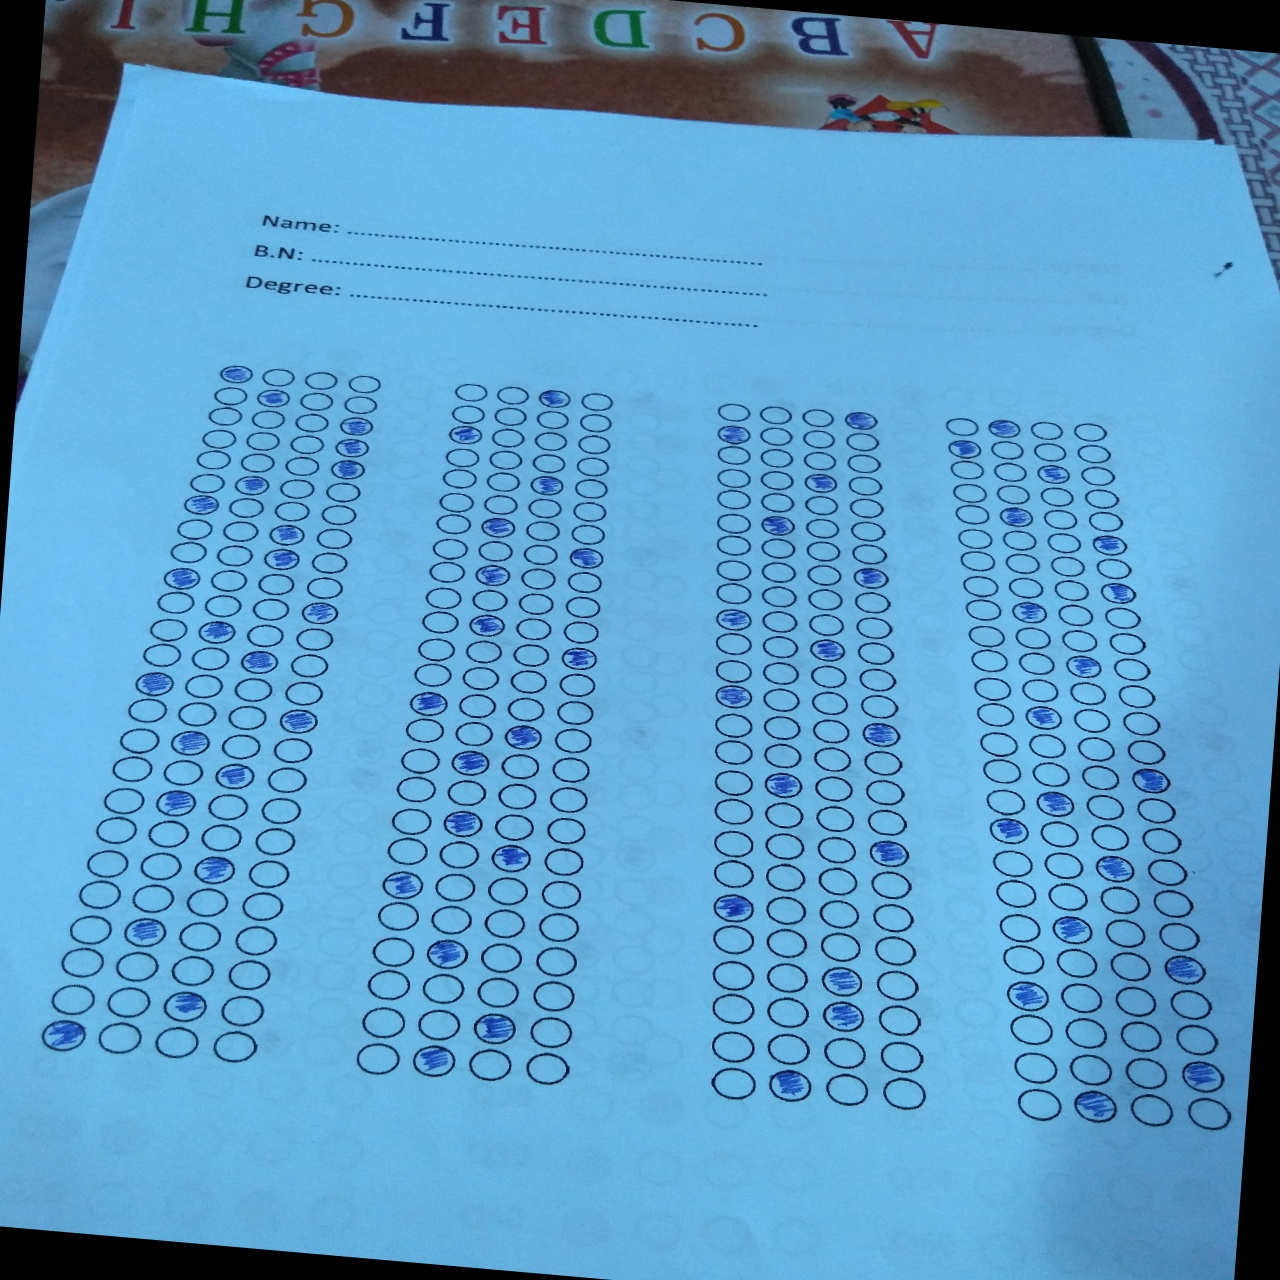not-c: (1185, 1094, 1234, 1133), (1124, 1053, 1173, 1092), (762, 958, 811, 998), (97, 1019, 145, 1058), (353, 1040, 401, 1080), (532, 944, 580, 983), (762, 924, 810, 964), (529, 978, 578, 1016), (709, 1065, 758, 1104), (1014, 1085, 1063, 1124), (1067, 1051, 1116, 1090), (1167, 986, 1217, 1024), (709, 956, 758, 995), (872, 932, 921, 971), (104, 983, 152, 1022), (49, 981, 97, 1020), (369, 932, 417, 971), (467, 1047, 515, 1085), (524, 1051, 572, 1090), (527, 1013, 576, 1051), (823, 1071, 871, 1110), (881, 1075, 930, 1114), (879, 1039, 927, 1077), (1007, 1010, 1055, 1049), (1062, 1013, 1110, 1051), (1118, 1017, 1166, 1056), (1175, 1021, 1223, 1060), (1114, 983, 1162, 1022), (1058, 979, 1107, 1017), (999, 941, 1047, 980), (873, 967, 921, 1006), (822, 1034, 870, 1073), (710, 1028, 758, 1067), (763, 993, 811, 1032), (876, 1002, 925, 1040), (1128, 1092, 1177, 1130), (154, 1023, 200, 1062), (366, 966, 413, 1005), (1012, 1049, 1058, 1088), (359, 1005, 407, 1042), (764, 1030, 812, 1068), (708, 989, 756, 1027), (710, 921, 758, 959), (817, 928, 865, 966), (870, 899, 918, 937), (416, 1006, 463, 1043), (815, 896, 863, 932), (709, 856, 757, 892), (761, 828, 809, 864), (128, 879, 175, 915), (177, 918, 224, 954), (60, 945, 107, 981), (219, 993, 266, 1029), (211, 1028, 258, 1064), (761, 893, 809, 928), (710, 826, 758, 862), (1101, 915, 1149, 951), (1137, 823, 1185, 858), (240, 888, 286, 925), (476, 974, 522, 1010), (535, 908, 581, 944), (246, 857, 293, 892), (77, 877, 124, 912), (182, 885, 229, 920), (168, 952, 215, 987), (420, 971, 467, 1006), (992, 878, 1039, 913), (998, 911, 1044, 946), (1148, 886, 1194, 921), (1053, 946, 1099, 981), (1039, 847, 1085, 883), (496, 749, 542, 784), (138, 847, 184, 883), (234, 922, 280, 958), (68, 911, 114, 946), (226, 956, 272, 992), (763, 860, 809, 896), (1157, 920, 1203, 955), (1098, 881, 1144, 917), (84, 846, 131, 880), (113, 949, 159, 983), (815, 864, 862, 898), (869, 869, 915, 903), (1107, 949, 1153, 983), (1144, 855, 1191, 888), (540, 844, 585, 879), (375, 898, 420, 933), (479, 940, 524, 975), (493, 779, 539, 813), (482, 905, 527, 939), (197, 821, 243, 855), (1046, 880, 1092, 913), (990, 846, 1037, 879), (1087, 821, 1133, 853), (437, 837, 482, 871), (491, 810, 536, 844), (544, 813, 588, 847), (538, 878, 583, 912), (433, 870, 477, 904), (430, 903, 475, 937), (549, 754, 594, 787), (550, 724, 595, 757), (264, 764, 309, 797), (258, 795, 304, 828), (101, 785, 147, 818), (252, 825, 298, 858), (815, 803, 860, 836), (761, 799, 806, 832), (712, 795, 757, 828), (1082, 790, 1128, 823), (445, 776, 490, 809), (547, 784, 592, 817), (486, 874, 531, 907), (207, 790, 252, 823), (95, 812, 139, 845), (865, 805, 910, 838), (173, 699, 219, 730), (1132, 794, 1178, 825), (452, 717, 497, 749), (394, 774, 438, 805), (386, 835, 430, 866), (270, 734, 314, 765), (225, 702, 270, 734), (813, 835, 858, 866), (712, 768, 756, 799), (712, 712, 756, 743), (455, 690, 501, 721), (712, 655, 757, 686), (110, 753, 154, 784), (218, 730, 263, 761), (183, 672, 227, 702), (116, 726, 161, 756), (145, 818, 190, 849), (1039, 818, 1083, 849), (712, 737, 756, 768), (983, 787, 1028, 817), (282, 678, 325, 709), (125, 694, 168, 726), (559, 618, 602, 648), (403, 715, 447, 745), (390, 806, 434, 837), (858, 692, 901, 722), (1074, 734, 1117, 764), (971, 673, 1014, 703), (159, 757, 204, 787), (399, 744, 441, 775), (762, 741, 804, 771), (809, 688, 851, 719), (857, 665, 899, 695), (812, 774, 855, 804), (982, 756, 1024, 787), (1024, 731, 1067, 762), (414, 634, 457, 663), (411, 659, 455, 688), (286, 651, 329, 680), (712, 628, 755, 658), (760, 659, 803, 688), (811, 716, 855, 745), (863, 778, 906, 808), (966, 622, 1009, 652), (292, 626, 336, 654), (964, 595, 1005, 626), (1110, 654, 1151, 685), (506, 695, 549, 724), (232, 675, 274, 704), (757, 633, 799, 662), (760, 686, 802, 715), (761, 713, 803, 742), (806, 662, 849, 692), (862, 748, 904, 777), (855, 638, 897, 667), (1029, 760, 1071, 789), (969, 645, 1012, 674), (1070, 706, 1112, 735), (1102, 604, 1144, 633), (1058, 626, 1101, 655), (463, 636, 506, 665), (462, 665, 505, 693), (244, 622, 287, 651), (1124, 737, 1167, 765), (973, 702, 1016, 730), (1080, 763, 1121, 792), (1116, 682, 1157, 712), (561, 593, 604, 621), (155, 588, 197, 617), (202, 592, 244, 620), (248, 595, 291, 624), (510, 640, 552, 668), (506, 668, 549, 696), (554, 670, 597, 699), (147, 615, 189, 644), (141, 641, 183, 669), (189, 644, 231, 672), (812, 745, 855, 774), (757, 608, 799, 636), (978, 730, 1020, 758), (517, 565, 560, 592), (302, 576, 346, 602), (1121, 709, 1160, 738), (513, 615, 554, 644), (554, 697, 595, 726), (1107, 629, 1148, 658), (1055, 601, 1096, 629), (425, 558, 468, 585), (515, 591, 557, 618), (207, 567, 250, 594), (256, 571, 298, 598), (418, 610, 461, 636), (853, 615, 896, 642), (166, 540, 210, 566), (313, 526, 354, 553), (806, 611, 847, 638), (1021, 678, 1062, 704), (1092, 556, 1133, 583), (218, 518, 260, 544), (450, 377, 492, 403), (422, 584, 464, 610), (467, 587, 509, 613), (308, 550, 350, 576), (213, 543, 256, 568), (1068, 680, 1110, 706), (806, 586, 845, 614), (715, 580, 754, 608), (714, 556, 753, 584), (493, 382, 533, 409), (567, 520, 607, 547), (1051, 576, 1091, 602), (1006, 574, 1046, 601), (961, 572, 1001, 599), (804, 561, 844, 588), (173, 516, 215, 542), (440, 465, 481, 491), (445, 401, 486, 427), (474, 538, 515, 564), (519, 542, 560, 567), (564, 570, 605, 595), (1012, 625, 1053, 651), (1017, 651, 1058, 676), (799, 427, 840, 452), (853, 588, 891, 617), (760, 583, 798, 610), (430, 537, 472, 561), (440, 445, 482, 470), (282, 452, 322, 478), (993, 481, 1033, 506), (799, 448, 839, 474), (760, 558, 797, 585), (433, 513, 474, 538), (485, 447, 526, 471), (531, 407, 572, 431), (576, 411, 617, 436), (568, 499, 610, 524), (803, 538, 844, 563), (847, 542, 888, 566), (714, 510, 755, 535), (956, 549, 998, 573), (1041, 508, 1082, 532), (1085, 510, 1126, 535), (1074, 442, 1115, 467), (1032, 441, 1073, 465), (844, 474, 885, 498), (755, 469, 796, 493), (755, 445, 796, 470), (714, 442, 755, 467), (714, 401, 755, 425), (755, 402, 796, 427), (797, 406, 838, 430), (758, 535, 799, 559), (436, 490, 476, 515), (490, 403, 530, 428), (488, 425, 527, 450), (803, 517, 843, 542), (847, 519, 887, 544), (1002, 551, 1042, 576), (1049, 554, 1089, 579), (1046, 530, 1085, 554), (956, 526, 996, 551), (953, 503, 993, 527), (990, 461, 1030, 485), (947, 457, 987, 482), (1036, 484, 1076, 509), (1026, 418, 1065, 443), (1070, 421, 1110, 445), (842, 451, 881, 476), (846, 496, 886, 520), (757, 490, 797, 515), (713, 486, 753, 511), (527, 451, 568, 475), (712, 535, 753, 558), (949, 481, 990, 504), (988, 438, 1029, 462), (840, 430, 881, 454), (712, 465, 753, 489), (248, 407, 287, 431), (238, 450, 277, 475), (324, 481, 362, 505), (319, 503, 358, 527), (227, 496, 266, 520), (574, 433, 613, 457), (572, 454, 611, 478), (1083, 486, 1122, 511), (484, 470, 524, 493), (481, 493, 520, 517), (523, 519, 563, 543), (525, 497, 565, 520), (530, 430, 570, 454), (577, 390, 617, 414), (572, 477, 612, 501), (1078, 465, 1118, 489), (942, 416, 982, 440), (801, 493, 840, 517), (758, 425, 798, 449), (206, 404, 244, 429), (288, 433, 326, 457), (199, 425, 237, 450), (277, 477, 315, 501), (244, 429, 282, 452), (193, 449, 232, 472), (188, 471, 226, 495), (1000, 527, 1039, 551), (346, 373, 383, 396), (212, 384, 250, 408), (293, 410, 331, 434), (273, 499, 309, 523), (259, 366, 297, 388), (297, 390, 334, 413), (342, 394, 379, 416), (302, 370, 339, 392)
taken-c: (408, 1041, 459, 1081), (38, 1015, 88, 1055), (469, 1009, 519, 1049), (421, 933, 472, 972), (158, 987, 209, 1026), (377, 866, 428, 905), (1160, 952, 1210, 990), (1001, 978, 1051, 1015), (1046, 912, 1096, 949), (765, 1067, 813, 1105), (1071, 1087, 1121, 1124), (1176, 1058, 1225, 1096), (817, 962, 865, 1000), (120, 914, 168, 951), (1090, 851, 1139, 886), (406, 686, 452, 722), (821, 998, 867, 1034), (486, 840, 535, 876), (441, 808, 489, 843), (448, 745, 496, 781), (499, 719, 547, 754), (986, 813, 1034, 847), (710, 891, 757, 925), (1032, 789, 1080, 822), (154, 787, 199, 821), (866, 837, 913, 870), (762, 769, 808, 802), (1130, 765, 1176, 798), (1022, 702, 1068, 735), (212, 760, 257, 792), (191, 853, 236, 886), (168, 727, 212, 758), (563, 544, 608, 574), (464, 610, 509, 640), (195, 617, 238, 647), (237, 646, 280, 676), (559, 644, 602, 674), (1008, 598, 1051, 628), (470, 561, 515, 591), (476, 513, 520, 543), (277, 707, 320, 736), (712, 682, 755, 712), (1063, 653, 1107, 682), (1096, 580, 1139, 610), (134, 668, 176, 697), (860, 720, 903, 749), (996, 503, 1039, 532), (1088, 532, 1131, 560), (266, 520, 308, 549), (712, 606, 754, 634), (805, 635, 847, 663), (299, 599, 340, 627), (444, 423, 485, 451), (847, 565, 891, 591), (527, 474, 568, 501), (532, 386, 573, 413), (757, 513, 799, 539), (261, 546, 302, 572), (983, 416, 1024, 442), (161, 565, 200, 591), (842, 408, 883, 433), (182, 492, 222, 517), (1033, 462, 1073, 486), (944, 436, 983, 461), (328, 456, 367, 481), (232, 474, 271, 498), (256, 387, 295, 410), (336, 415, 376, 438), (803, 471, 840, 496), (332, 436, 370, 459), (716, 423, 753, 448), (216, 362, 256, 384)
